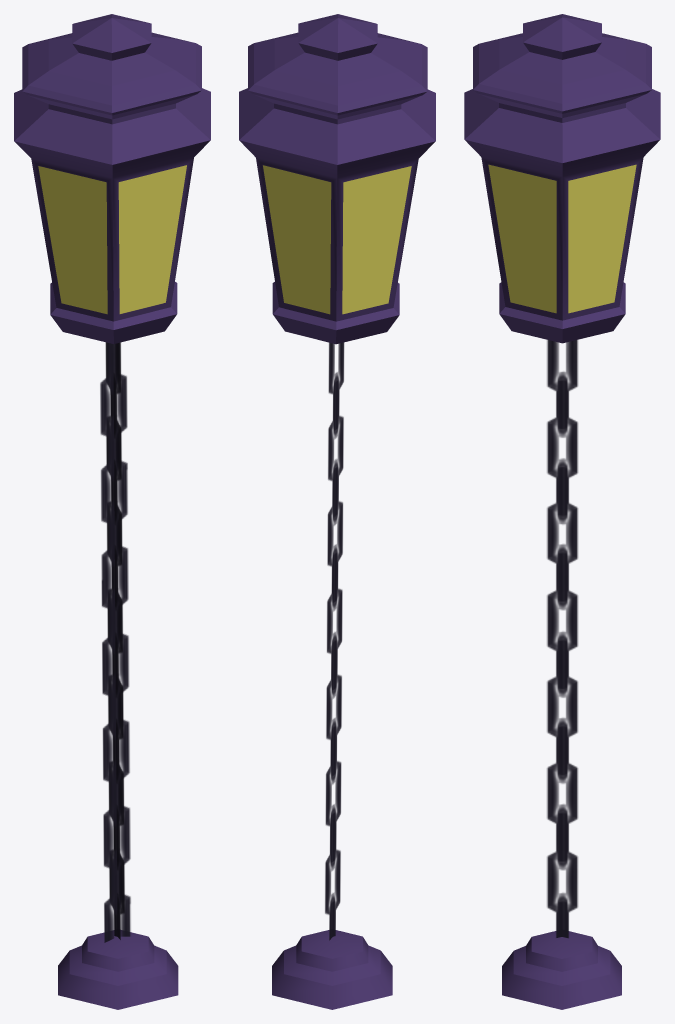
The model's file is christmas__Lamp01.glb.
3 renders of one model, left to right at view 1: azimuth 30°, elevation 25°; view 2: azimuth 150°, elevation 25°; view 3: azimuth 270°, elevation 25°, orthographic.
Visible parts, largest first — view 1: Lamp01; view 2: Lamp01; view 3: Lamp01.
Boxes of the visible parts, <box> form: Lamp01: <box>14,14,210,1009</box>; Lamp01: <box>239,14,435,1009</box>; Lamp01: <box>464,14,660,1009</box>.
Bounding box in the file's own units: 0.7385 × 3.46 × 0.6396.
2 materials, 2 textured.
